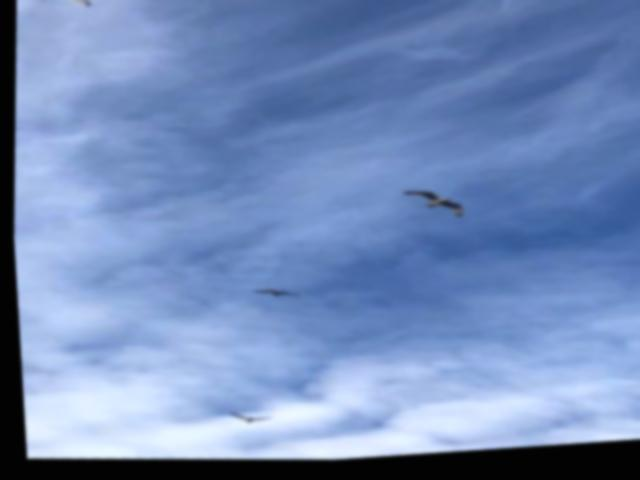bird: (388, 182, 490, 238), (216, 410, 279, 436), (243, 281, 294, 313), (15, 0, 106, 11)
